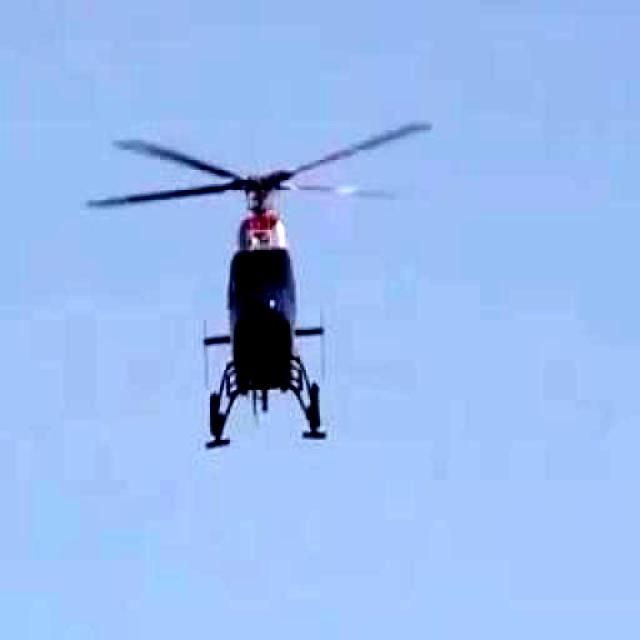drone: (91, 95, 432, 469)
